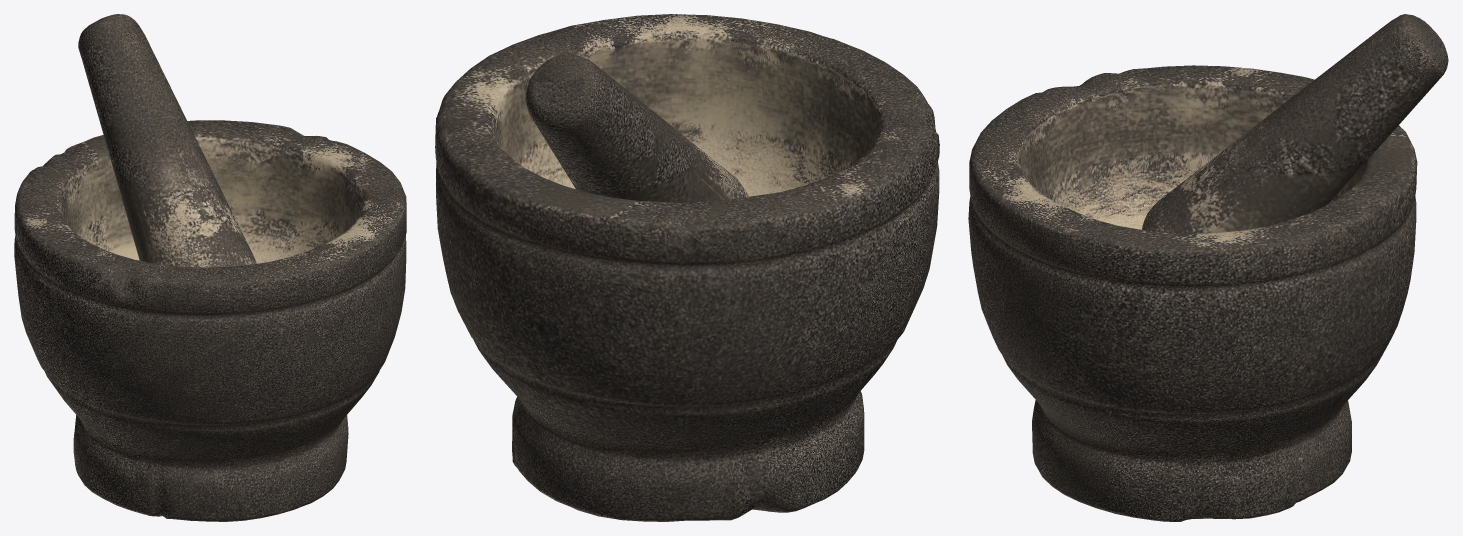
Rendered from tripo_convert_7e9955a7-8e30-44d5-b0f3-fa0d8e739cce.fbx.
The picture shows the model from 3 angles, left to right: view 1: azimuth 30°, elevation 25°; view 2: azimuth 150°, elevation 25°; view 3: azimuth 270°, elevation 25°; orthographic projection. The views are drawn at different scales.
Visible parts, largest first — view 1: tripo_node_7e9955a7; view 2: tripo_node_7e9955a7; view 3: tripo_node_7e9955a7.
Part boxes in pixels (left/top/right/bottom): tripo_node_7e9955a7: left=14, top=14, right=406, bottom=521; tripo_node_7e9955a7: left=435, top=14, right=939, bottom=521; tripo_node_7e9955a7: left=968, top=14, right=1448, bottom=521.
Size of the model in its own units: 0.9316 by 0.998 by 0.9902.
Materials: 1 (1 with a texture image).
